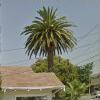Palm tree: (24, 3, 74, 73)
